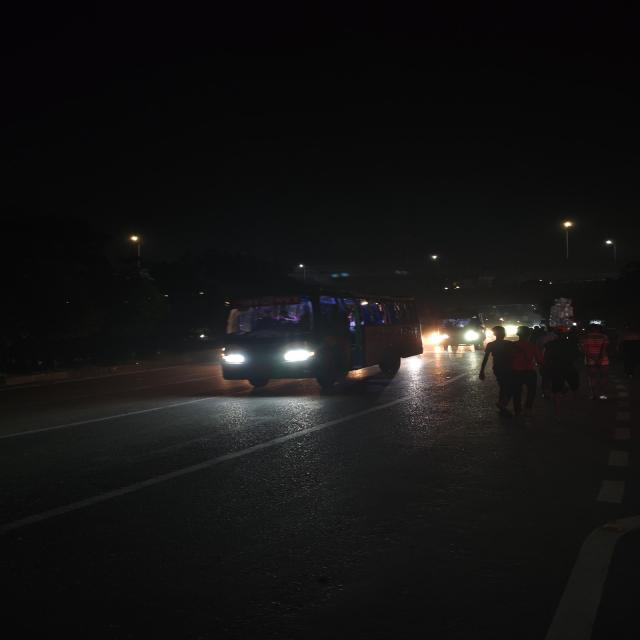bus: (219, 291, 422, 395), (438, 312, 484, 348)
pedestrian: (482, 325, 545, 417), (576, 323, 616, 404), (540, 328, 578, 410)
